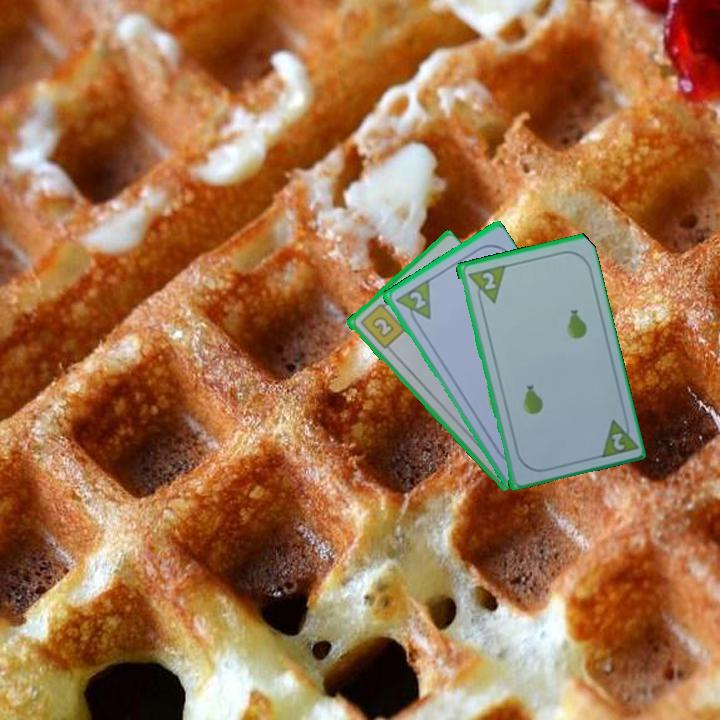2b: (356, 297, 408, 351)
2p: (391, 276, 434, 329), (463, 261, 507, 308), (607, 429, 627, 453)
